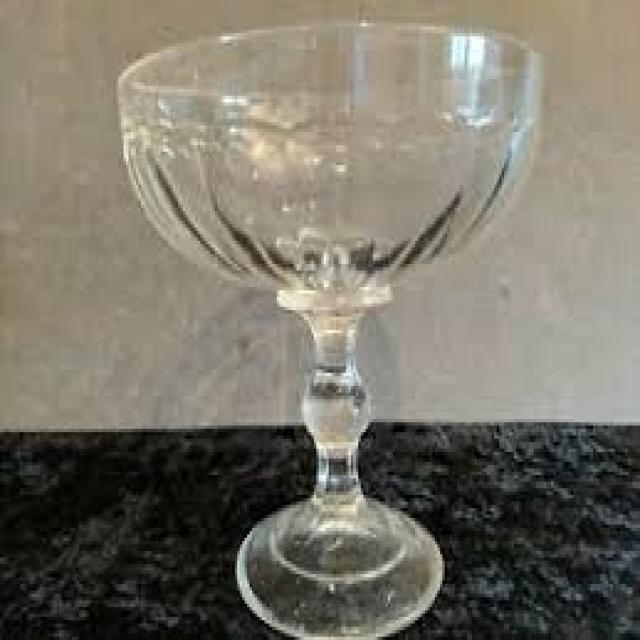Glass: (115, 19, 540, 640)
